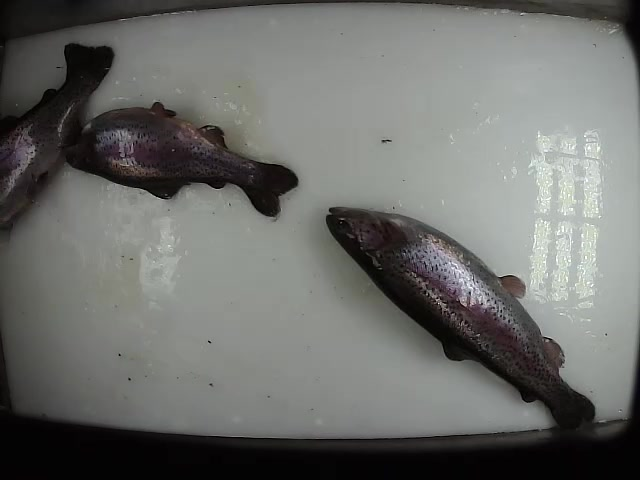fish: (324, 205, 596, 433), (63, 101, 300, 220), (1, 42, 115, 233)
